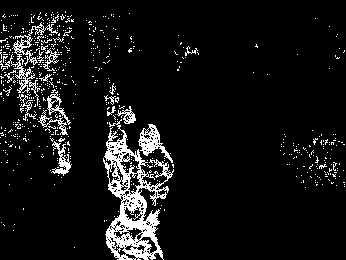person: (39, 92, 77, 177), (115, 199, 165, 260), (138, 124, 174, 201), (103, 127, 135, 196)
